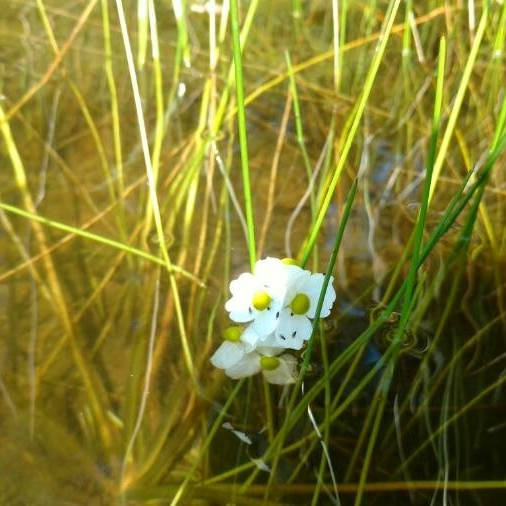obstacle: (202, 248, 328, 392)
